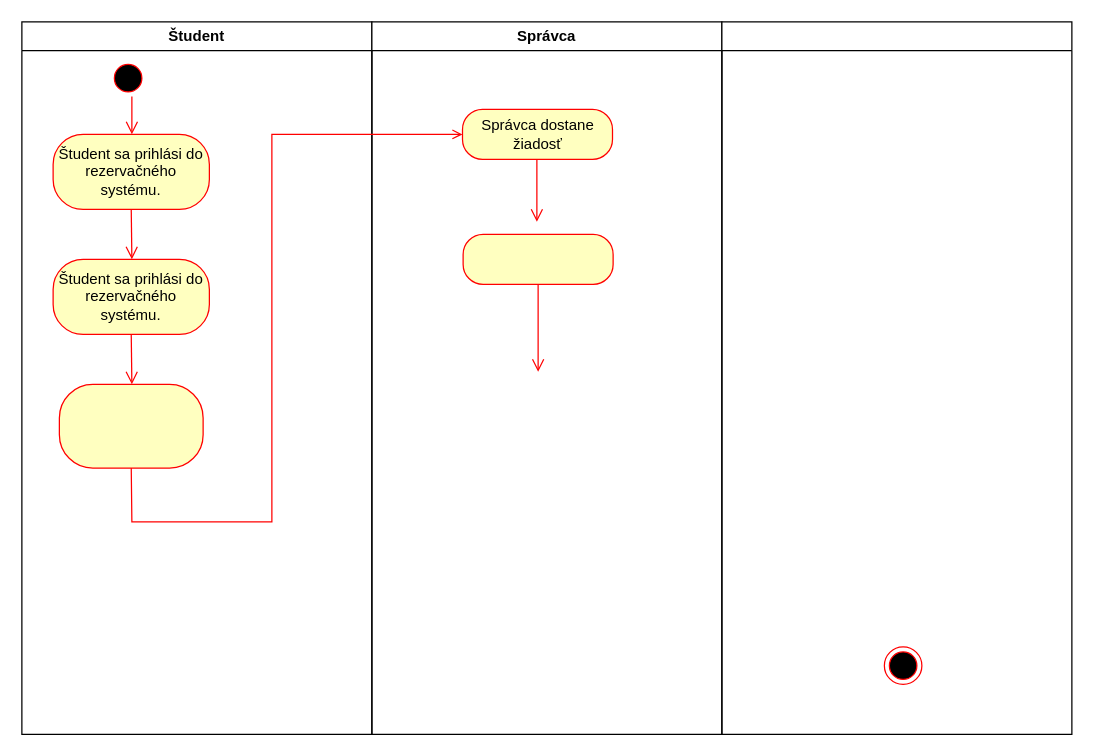
The diagram is 1094 pixels wide and 756 high, and some of its shapes have lost their labels. The box of each missing label's shape, as (x1, y1, x2, y2) in pixels:
Izba: (721, 21, 1072, 734)
Správca skontroluje voľné izby: (462, 233, 613, 284)
Študent odošle žiadosť o rezerváciu izby: (58, 383, 203, 468)
